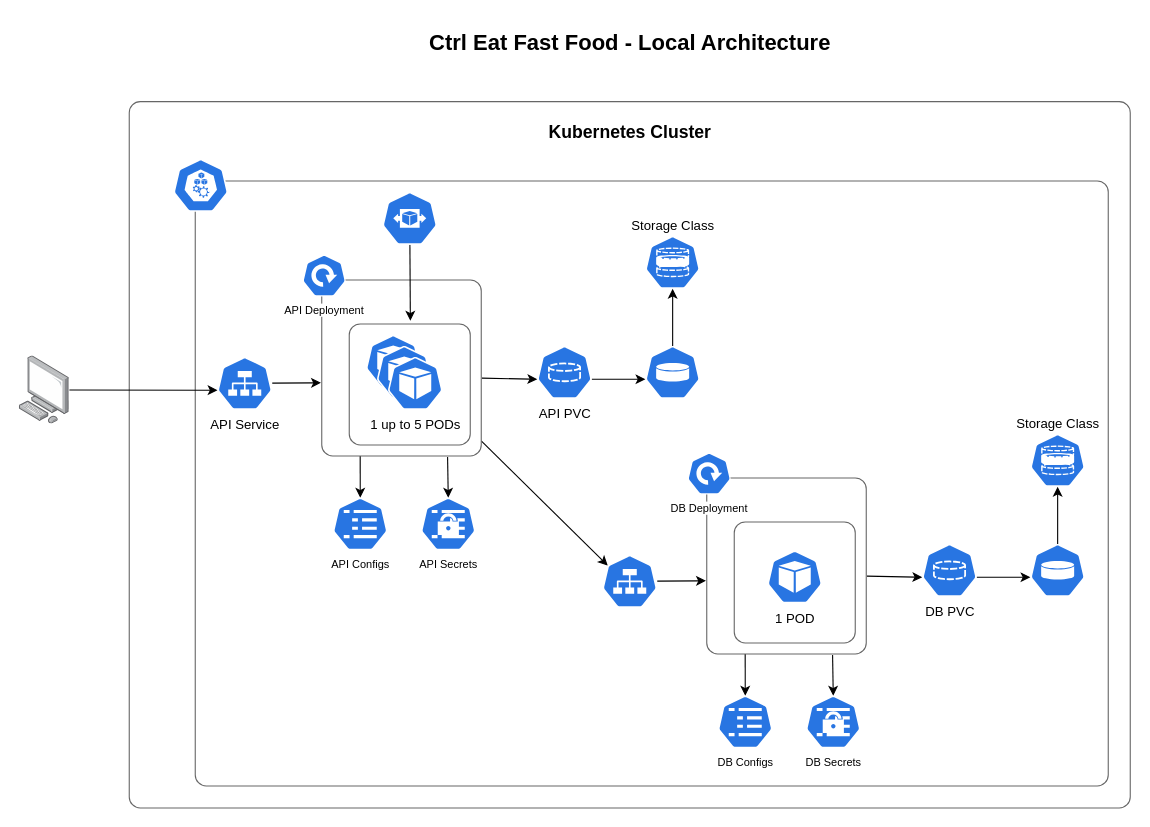
The diagram is 1150 pixels wide and 827 high, and some of its shapes have lost their labels. The centre of each missing label's shape, as x and y in pixels:
"API HPA" belongs at [409,218].
"API PV" belongs at [672,372].
"Client" belongs at [44,389].
"DB PV" belongs at [1057,570].
"DB Service" belongs at [629,581].
"Node docker-desktop" belongs at [200,185].
